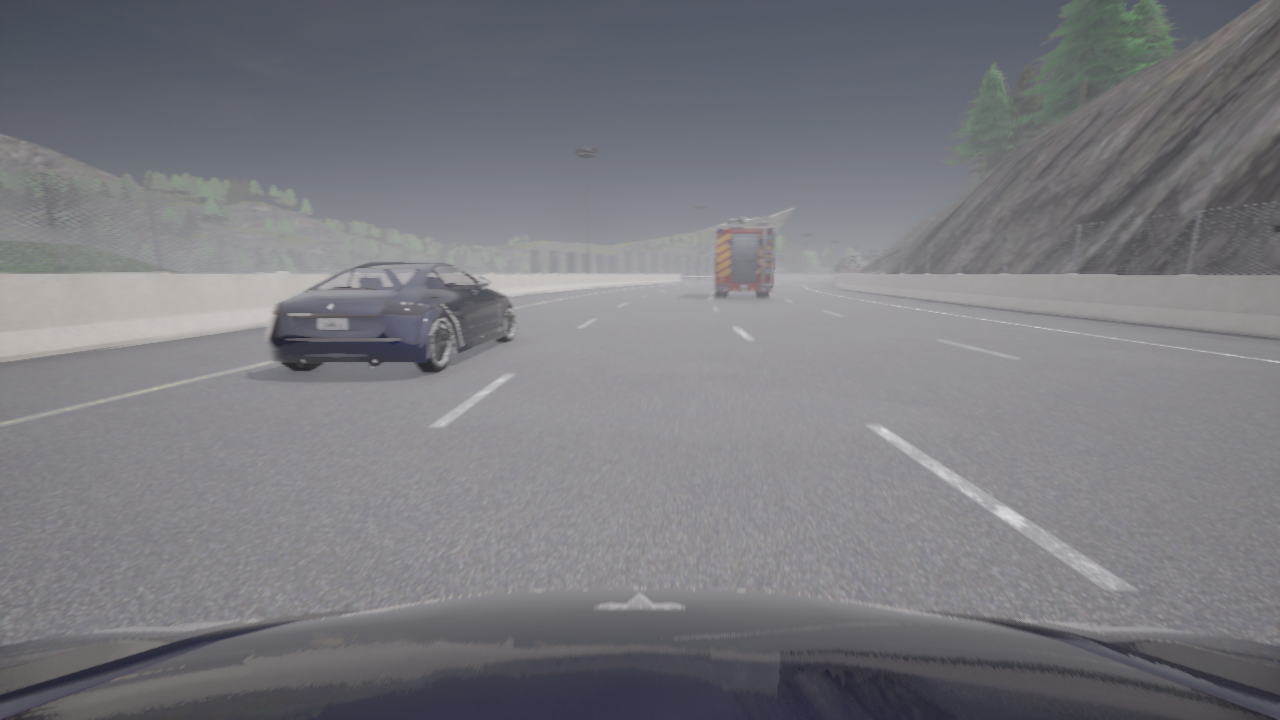cyclist: (0, 588, 1279, 719), (265, 261, 517, 372), (712, 217, 776, 297)
